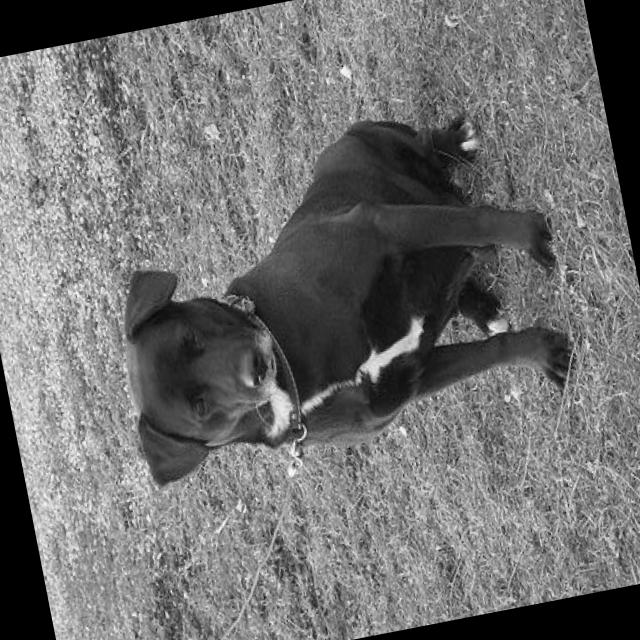sitting: (74, 72, 596, 524)
